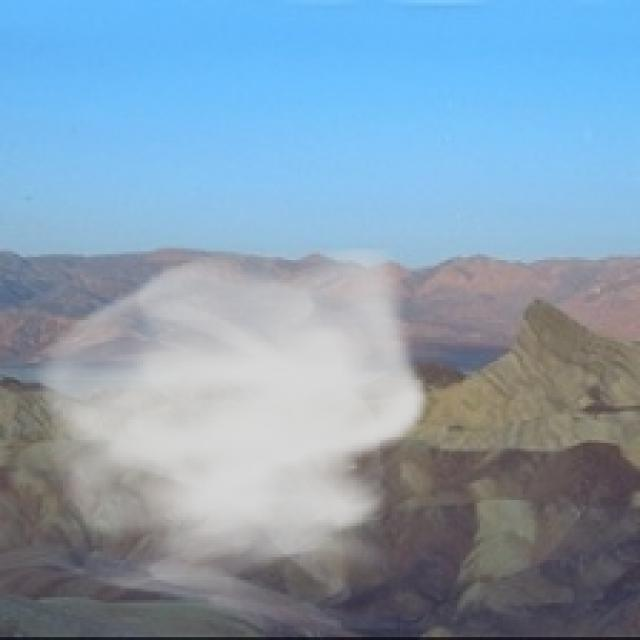smoke: (23, 234, 434, 637)
